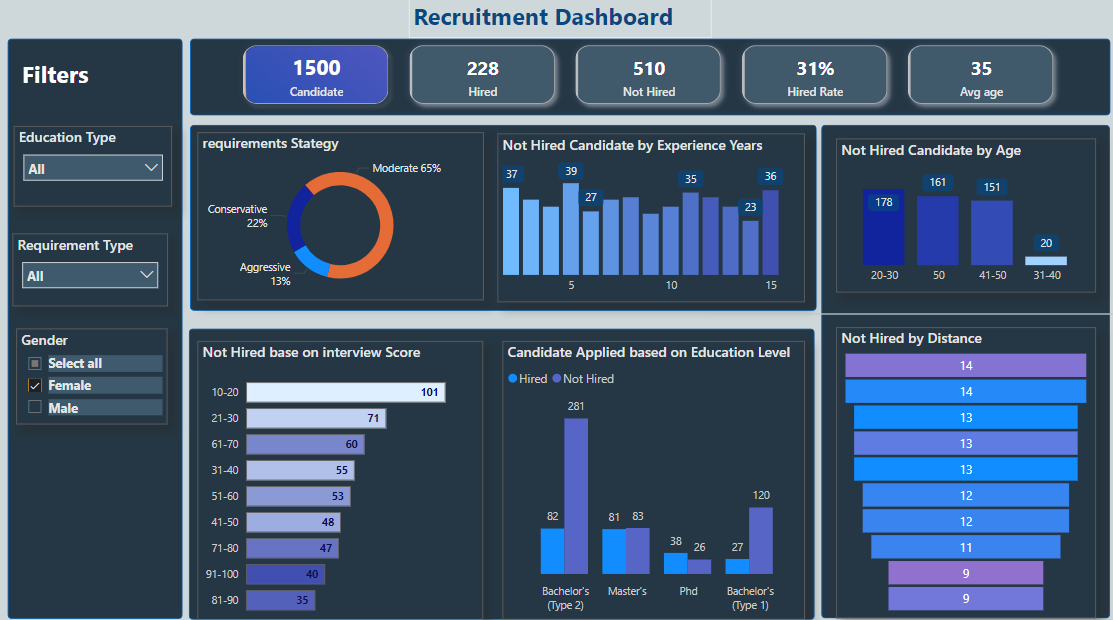

Layout of this report page (visuals, bound fields, positions):
{"tool":"powerbi","page":{"name":"Recruitment Dashboard","canvas":[1280,720],"ordinal":0},"visuals":[{"type":"shape","box":[938.6,147.1,330,564.3],"z":0},{"type":"textbox","box":[467.5,0,345,48.8],"z":1000},{"type":"shape","box":[8.4,48.3,200.3,663.5],"z":2000},{"type":"shape","box":[216.4,48.3,1052,88.1],"z":3000},{"type":"shape","box":[216.8,146.8,716.3,212.7],"z":4000},{"type":"shape","box":[216,380,715.4,333],"z":5000},{"type":"cardVisual","fields":{"Data":["Sum(Measurement.no_of_Candidate)","Measurement.No_of_Candidate_hired","Measurement.not_hired_Candidate","Measurement.Hired Rate","Measurement.Avg age of Candnidate"]},"box":[246.1,44.6,994.1,91.7],"z":6000},{"type":"slicer","title":"Gender","fields":{"Values":["recruitment_data.GenderType"]},"box":[19.2,380.5,173.1,109.9],"z":7000},{"type":"slicer","title":"Education Type","fields":{"Values":["recruitment_data.Education Level"]},"box":[15.7,148.4,181,91.7],"z":8000},{"type":"slicer","title":"Requirement Type","fields":{"Values":["recruitment_data.Recruitment Strategy"]},"box":[14.5,271.4,177.3,83.2],"z":9000},{"type":"textbox","box":[19.3,66.4,108.6,51.9],"z":10000},{"type":"clusteredBarChart","title":"Not Hired base on interview Score","fields":{"Category":["recruitment_data.InterviewScore Range"],"Y":["Measurement.not_hired_Candidate"]},"box":[225,393.8,326.6,326.6],"z":11000},{"type":"clusteredColumnChart","title":"Candidate Applied based on Education Level","fields":{"Category":["recruitment_data.Education Level"],"Y":["Measurement.No_of_Candidate_hired","Measurement.not_hired_Candidate"]},"box":[573.6,393.8,345.8,318.4],"z":12000},{"type":"lineStackedColumnComboChart","title":"Not Hired Candidate by Experience Years","fields":{"Category":["recruitment_data.ExperienceYears"],"Y":["Measurement.not_hired_Candidate"]},"box":[568.2,156.8,351.1,193],"z":13000},{"type":"lineStackedColumnComboChart","title":"Not Hired Candidate by Age","fields":{"Category":["recruitment_data.Age clmn"],"Y":["Measurement.not_hired_Candidate"]},"box":[955.5,162.9,296.8,176.1],"z":14000},{"type":"funnel","title":"Not Hired by Distance","fields":{"Category":["recruitment_data.DistanceFromCompany"],"Y":["Measurement.not_hired_Candidate"]},"box":[955.7,378.6,297.1,332.9],"z":15000},{"type":"donutChart","title":"requirements Stategy","fields":{"Y":["Measurement.not_hired_Candidate"],"Series":["recruitment_data.Recruitment Strategy"]},"box":[225.6,155.6,326.9,191.8],"z":16000},{"type":"shape","box":[813.1,347.5,466.9,32.6],"z":17000}]}

Visuals, with their boxes in screenshot pixels (x1, y1, x2, y2), scaled from the page's 1280x720 canvas onto the 1113x620 screenshot:
shape: left=816, top=127, right=1103, bottom=613
textbox: left=407, top=0, right=706, bottom=42
shape: left=7, top=42, right=181, bottom=613
shape: left=188, top=42, right=1103, bottom=117
shape: left=189, top=126, right=811, bottom=310
shape: left=188, top=327, right=810, bottom=614
cardVisual - Sum(Measurement.no_of_Candidate) x Measurement.No_of_Candidate_hired: left=214, top=38, right=1078, bottom=117
"Gender" slicer: left=17, top=328, right=167, bottom=422
"Education Type" slicer: left=14, top=128, right=171, bottom=207
"Requirement Type" slicer: left=13, top=234, right=167, bottom=305
textbox: left=17, top=57, right=111, bottom=102
"Not Hired base on interview Score" clusteredBarChart: left=196, top=339, right=480, bottom=619
"Candidate Applied based on Education Level" clusteredColumnChart: left=499, top=339, right=799, bottom=613
"Not Hired Candidate by Experience Years" lineStackedColumnComboChart: left=494, top=135, right=799, bottom=301
"Not Hired Candidate by Age" lineStackedColumnComboChart: left=831, top=140, right=1089, bottom=292
"Not Hired by Distance" funnel: left=831, top=326, right=1089, bottom=613
"requirements Stategy" donutChart: left=196, top=134, right=480, bottom=299
shape: left=707, top=299, right=1112, bottom=327
